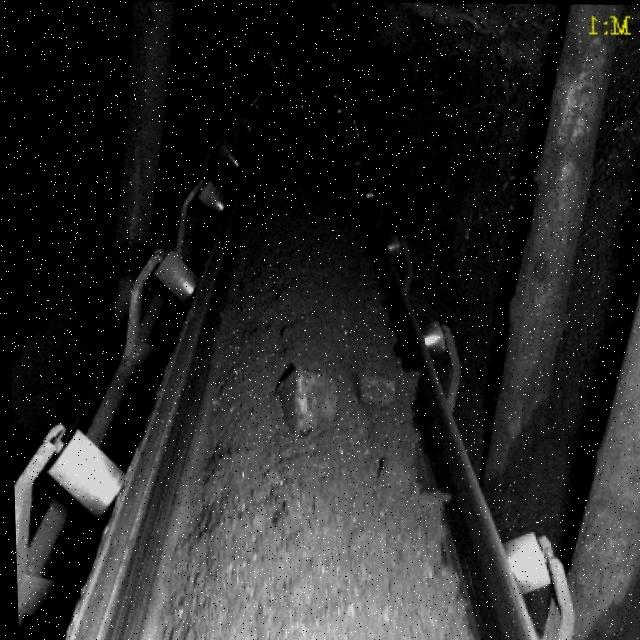large_sized_coal: (275, 363, 342, 435), (349, 372, 401, 411)
